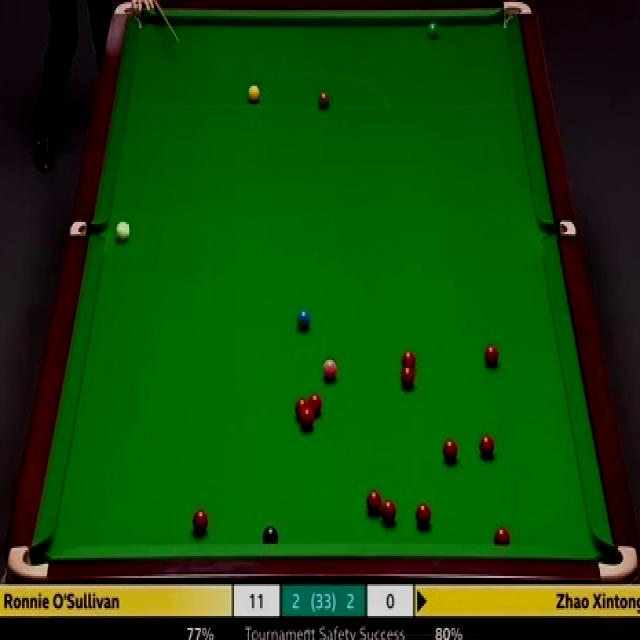black-ball: (262, 525, 280, 546)
blue-ball: (296, 308, 312, 329)
brown-ball: (318, 88, 330, 108)
green-ball: (426, 22, 439, 40)
pink-ball: (322, 359, 339, 384)
red-ball: (442, 438, 460, 464), (381, 497, 397, 526), (191, 508, 208, 535), (401, 349, 419, 374), (415, 504, 432, 530), (366, 490, 382, 516), (479, 434, 496, 458), (484, 344, 498, 369), (402, 366, 416, 391), (294, 398, 308, 422), (309, 393, 322, 418), (493, 526, 511, 543), (300, 411, 316, 430)
white-ball: (114, 219, 130, 242)
yellow-ball: (247, 86, 259, 102)
